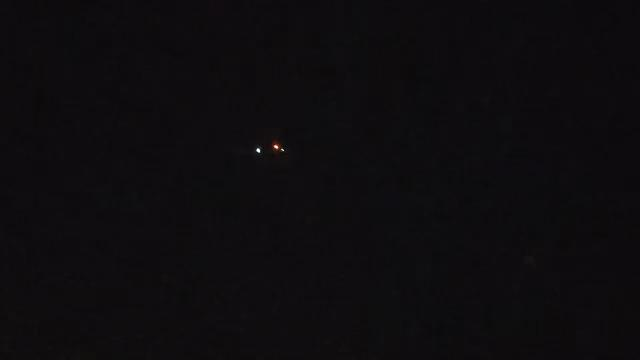Plane: (237, 135, 307, 161)
